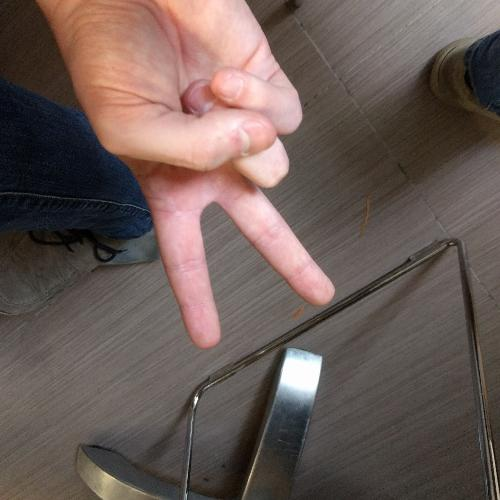scissors: (82, 1, 342, 352)
